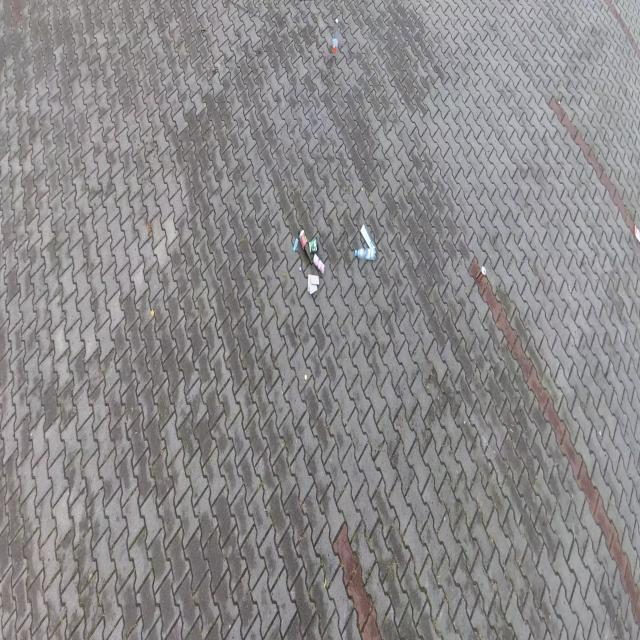rubbish: (297, 225, 312, 264), (359, 223, 376, 250), (331, 19, 339, 58), (312, 254, 325, 276), (355, 248, 376, 261), (307, 274, 319, 294), (308, 237, 319, 253), (476, 267, 485, 283), (633, 222, 639, 243), (292, 237, 299, 252), (304, 374, 307, 379), (299, 266, 301, 270)
